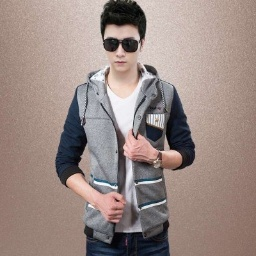face: (97, 1, 147, 74)
